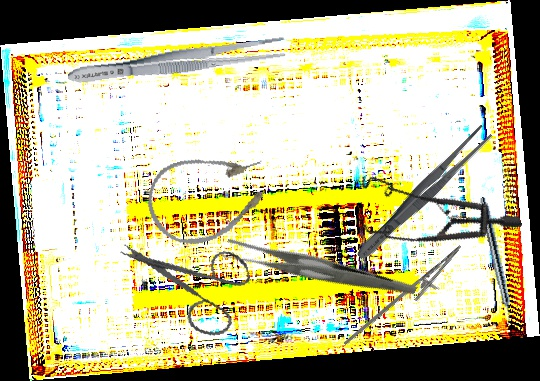Cannula: (138, 139, 280, 255)
Dressing Forceps: (218, 190, 419, 352), (351, 121, 495, 266), (66, 32, 287, 91)
Handpiece: (475, 196, 517, 326)
Iris Scissors: (118, 217, 261, 353)
Needle Holder: (342, 232, 471, 366)
Speculum: (340, 128, 523, 284)
